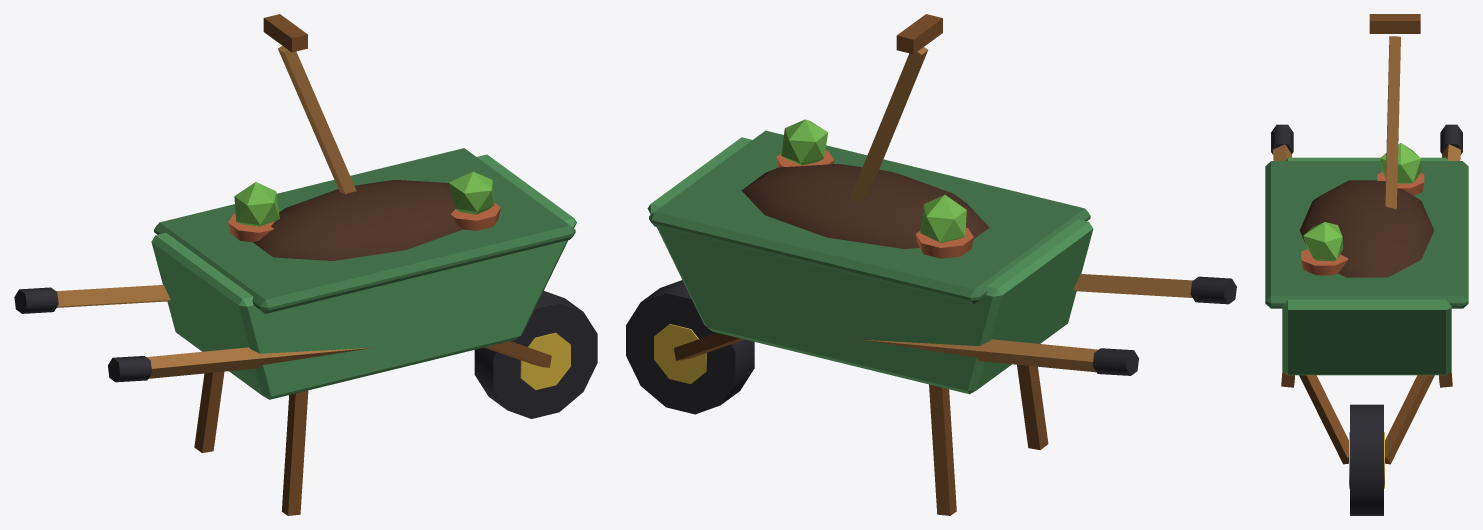
The model's file is greenhouse-prop1.glb.
3 renders of one model, left to right at view 1: azimuth 30°, elevation 25°; view 2: azimuth 150°, elevation 25°; view 3: azimuth 270°, elevation 25°, orthographic. The views are drawn at different scales.
Parts seen in each view (by area): view 1: greenhouse-prop1; view 2: greenhouse-prop1; view 3: greenhouse-prop1.
Part boxes in pixels (left/top/right/bottom): greenhouse-prop1: left=14, top=14, right=597, bottom=515; greenhouse-prop1: left=626, top=14, right=1236, bottom=515; greenhouse-prop1: left=1265, top=14, right=1468, bottom=515.
Bounding box in the file's own units: 1.94 × 1.53 × 0.72.
